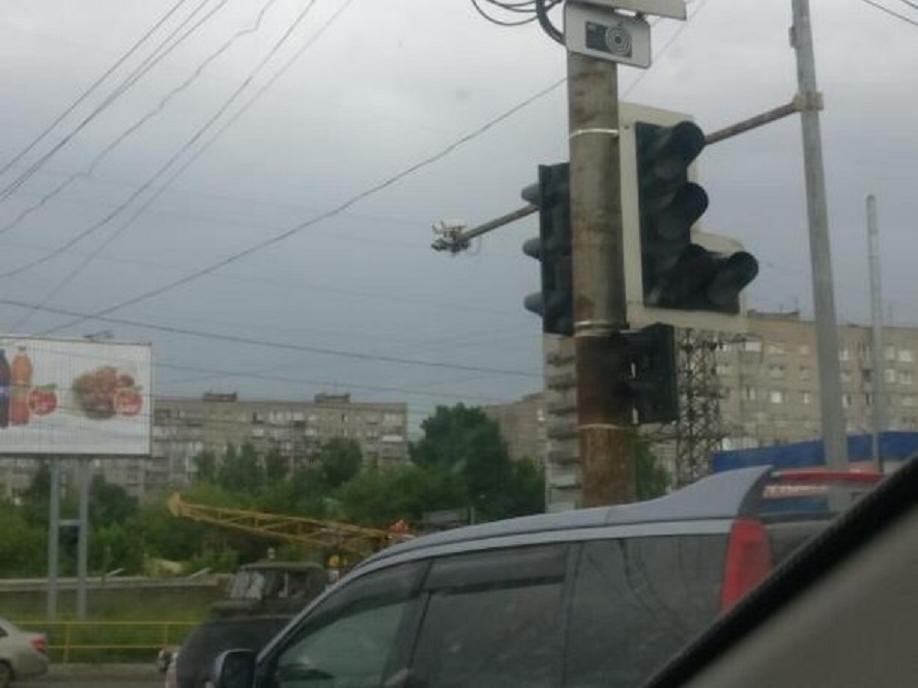off traffic light: (634, 120, 757, 313), (520, 163, 575, 339), (609, 323, 676, 424)
road_sign: (563, 0, 650, 69)
